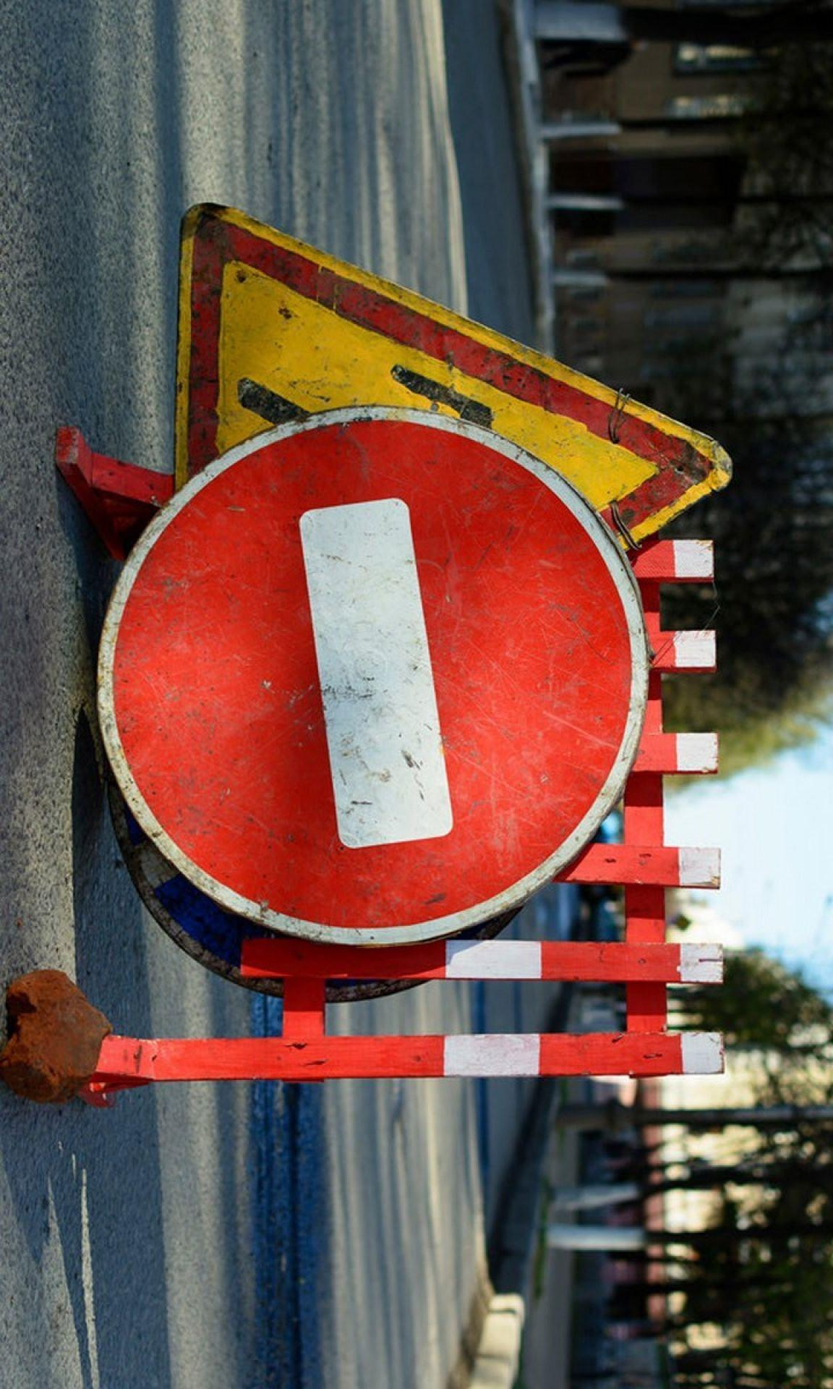obstructed_road_sign: (174, 195, 734, 551)
road_sign: (93, 403, 650, 948)
